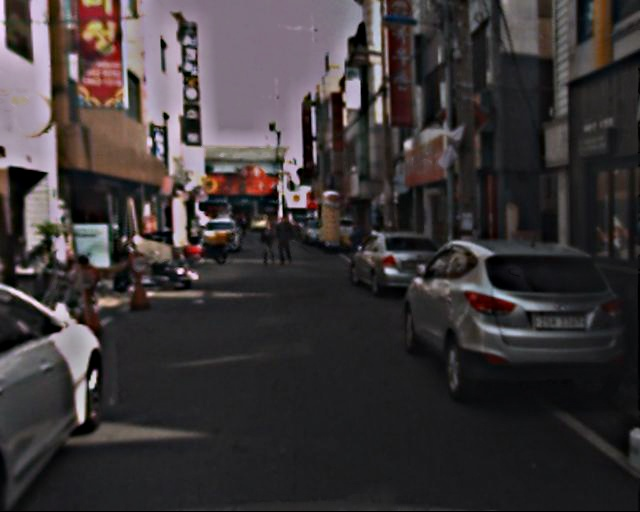person: (347, 213, 370, 275), (276, 215, 299, 274), (260, 218, 280, 270)
